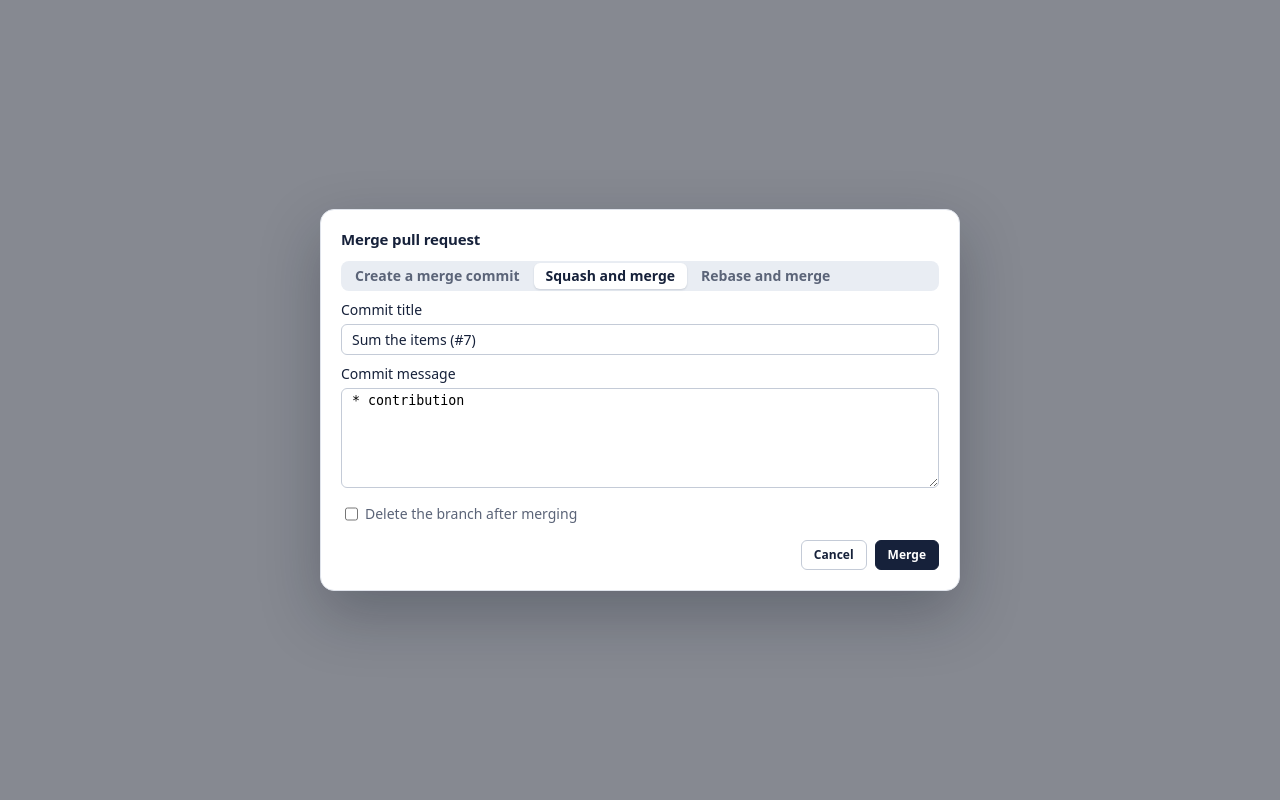
Test: MergeDialog › keeps the dialog open with the reason when GitHub refuses the merge
Expected: the field labelled "Commit title" is shown, [341, 324, 939, 355]
Click the button "Merge" at (907, 555), box [875, 540, 939, 570]
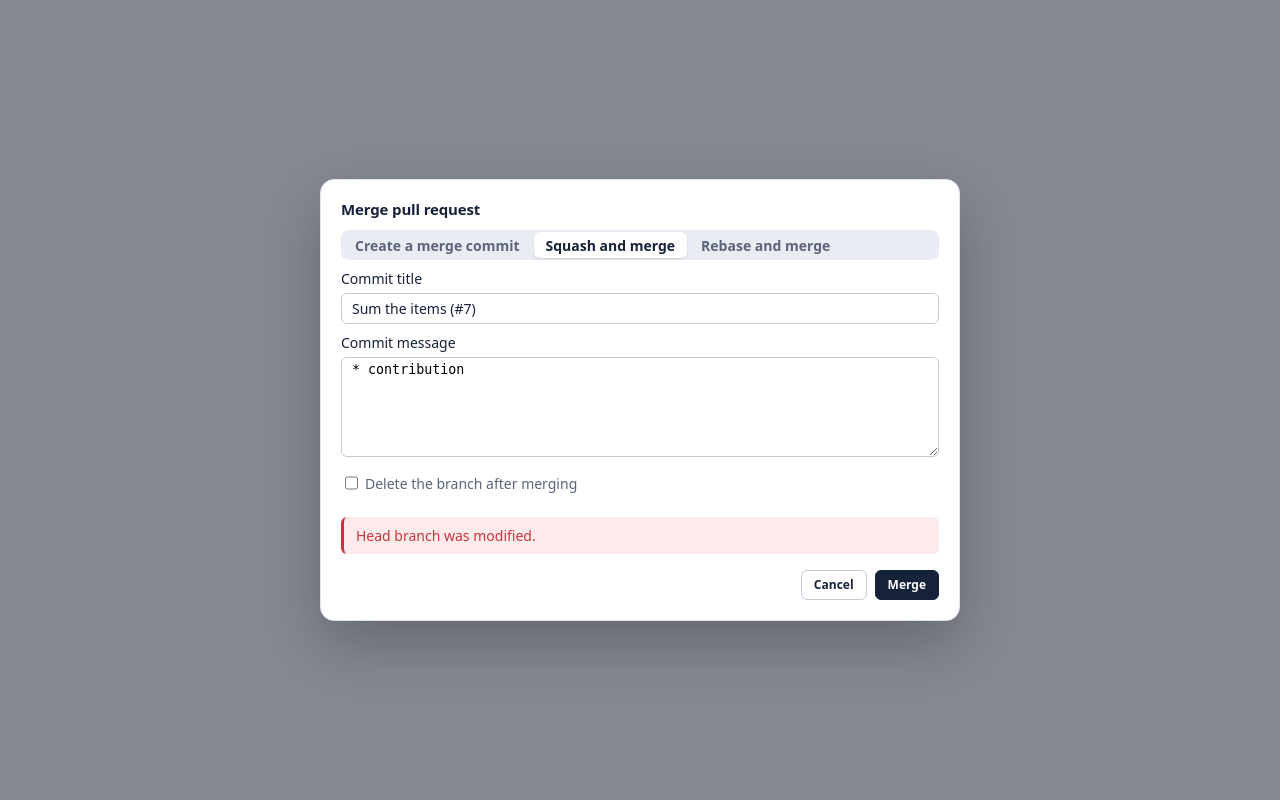
Expected: the field labelled "Commit title" holds "Sum the items (#7)", [341, 293, 939, 324]
Expected: the text "Head branch was modified." is shown, [341, 517, 939, 554]
